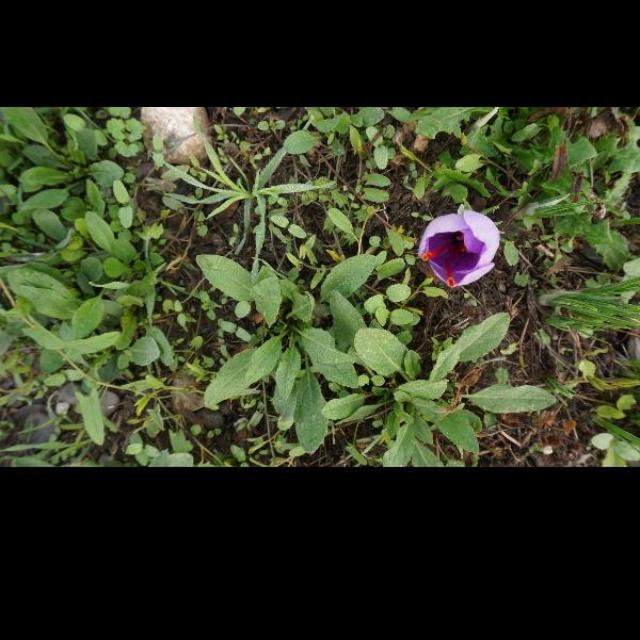flower: (420, 209, 500, 289)
